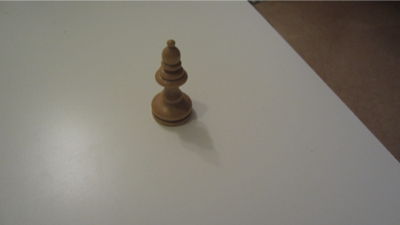white-bishop: (150, 39, 194, 128)
